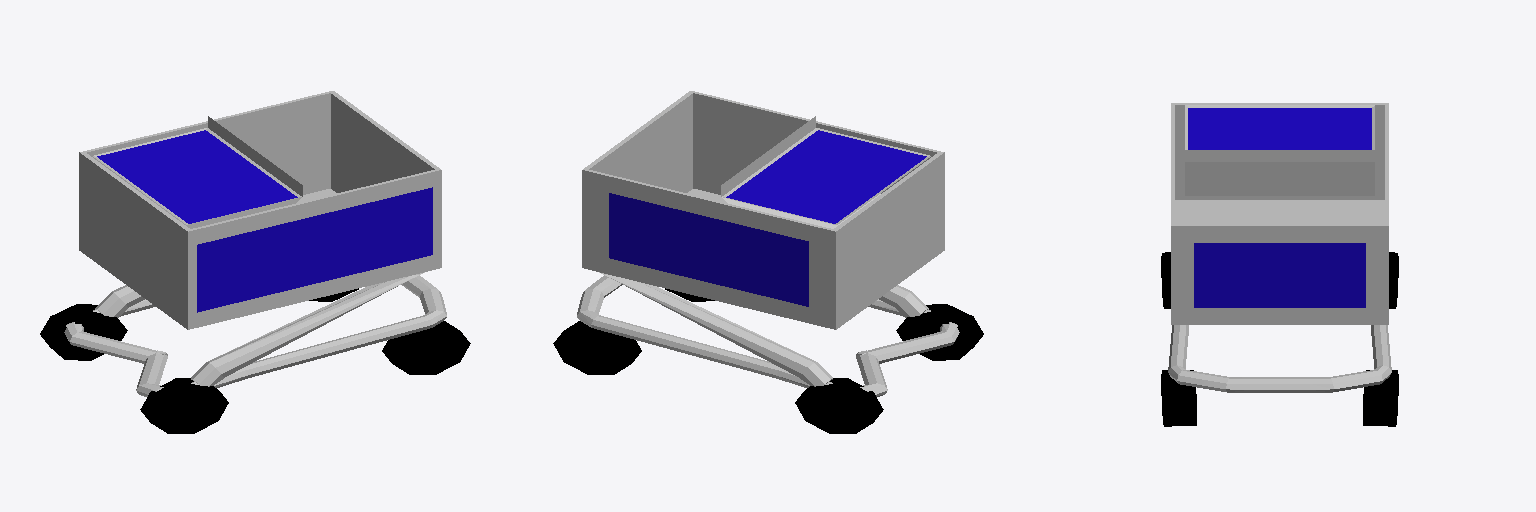
The model's file is Cart_A.obj.
The picture shows the model from 3 angles: view 1: azimuth 30°, elevation 25°; view 2: azimuth 150°, elevation 25°; view 3: azimuth 270°, elevation 25°; orthographic projection.
Visible parts, largest first — view 1: Cart; view 2: Cart; view 3: Cart.
Boxes of the visible parts, <box> form: Cart: <box>40,91,470,433</box>; Cart: <box>553,91,983,433</box>; Cart: <box>1161,103,1398,426</box>.
Size of the model in its own units: 2.41 by 1.53 by 1.56.